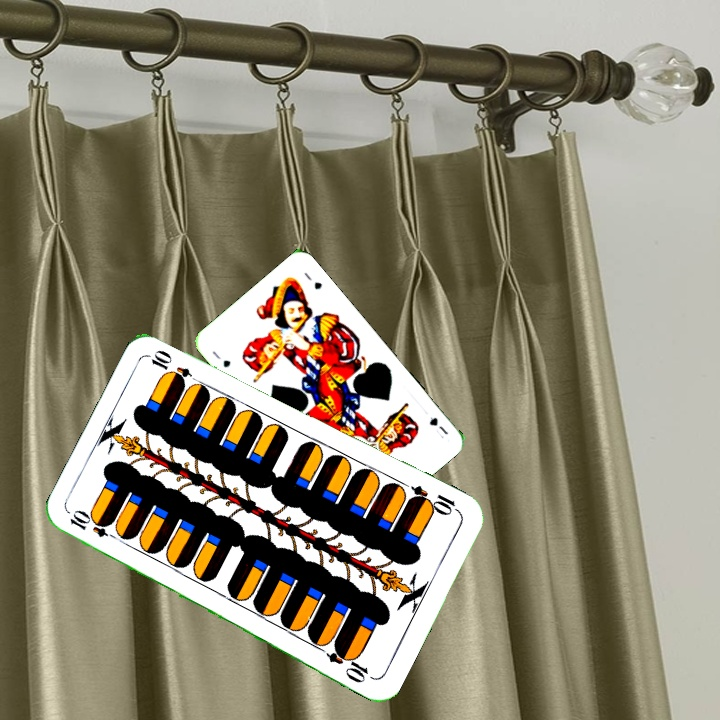E10: (405, 481, 463, 518), (65, 508, 123, 543)
GU: (425, 413, 451, 437), (208, 347, 233, 370)
